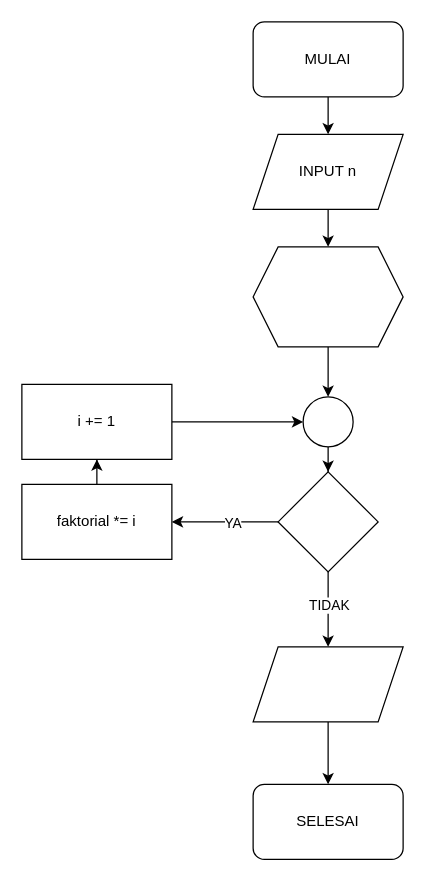
Image size: 425x881. Some labels were removed from this diagram. Here are the shapes that lost their labels. From the top down, the box of each, then its label:
(252, 246, 403, 347): faktorial = 1 i = 1
(277, 471, 378, 572): i <= n
(252, 646, 403, 722): faktorial
